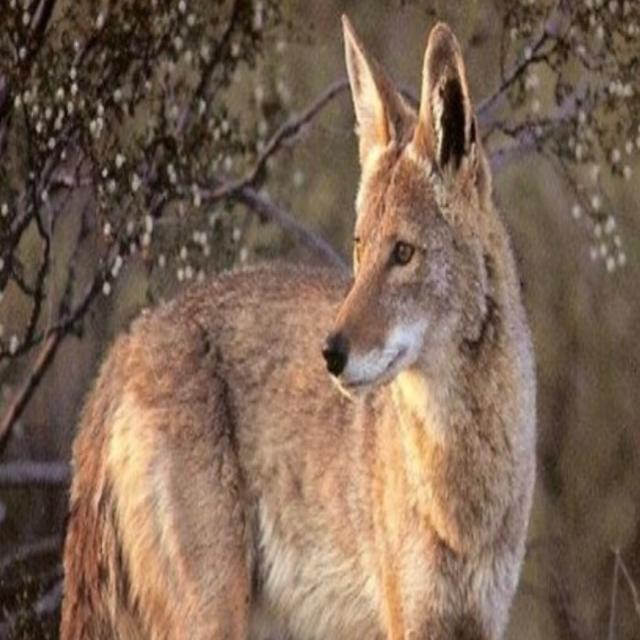Coyote: (60, 13, 541, 640)
